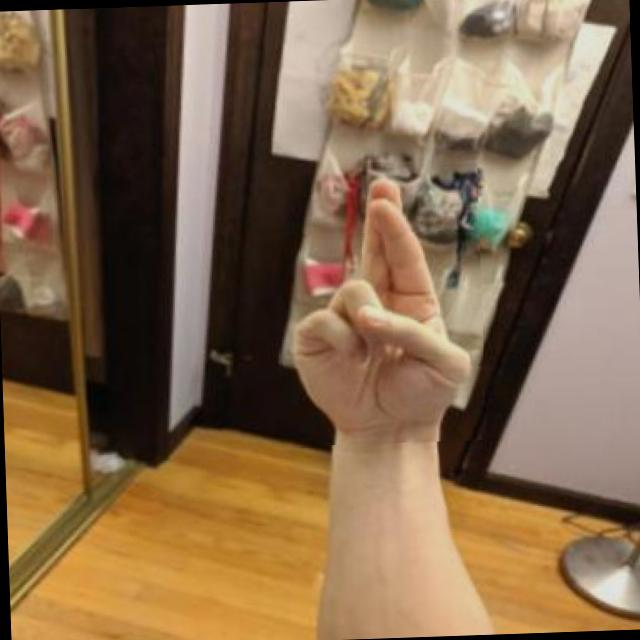R: (273, 158, 487, 446)
